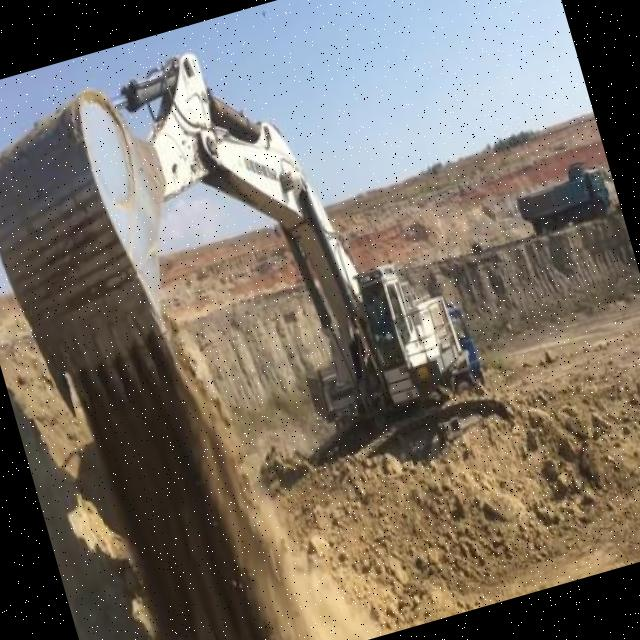Dump Truck: (512, 156, 608, 232)
Excavator: (0, 0, 523, 556)
